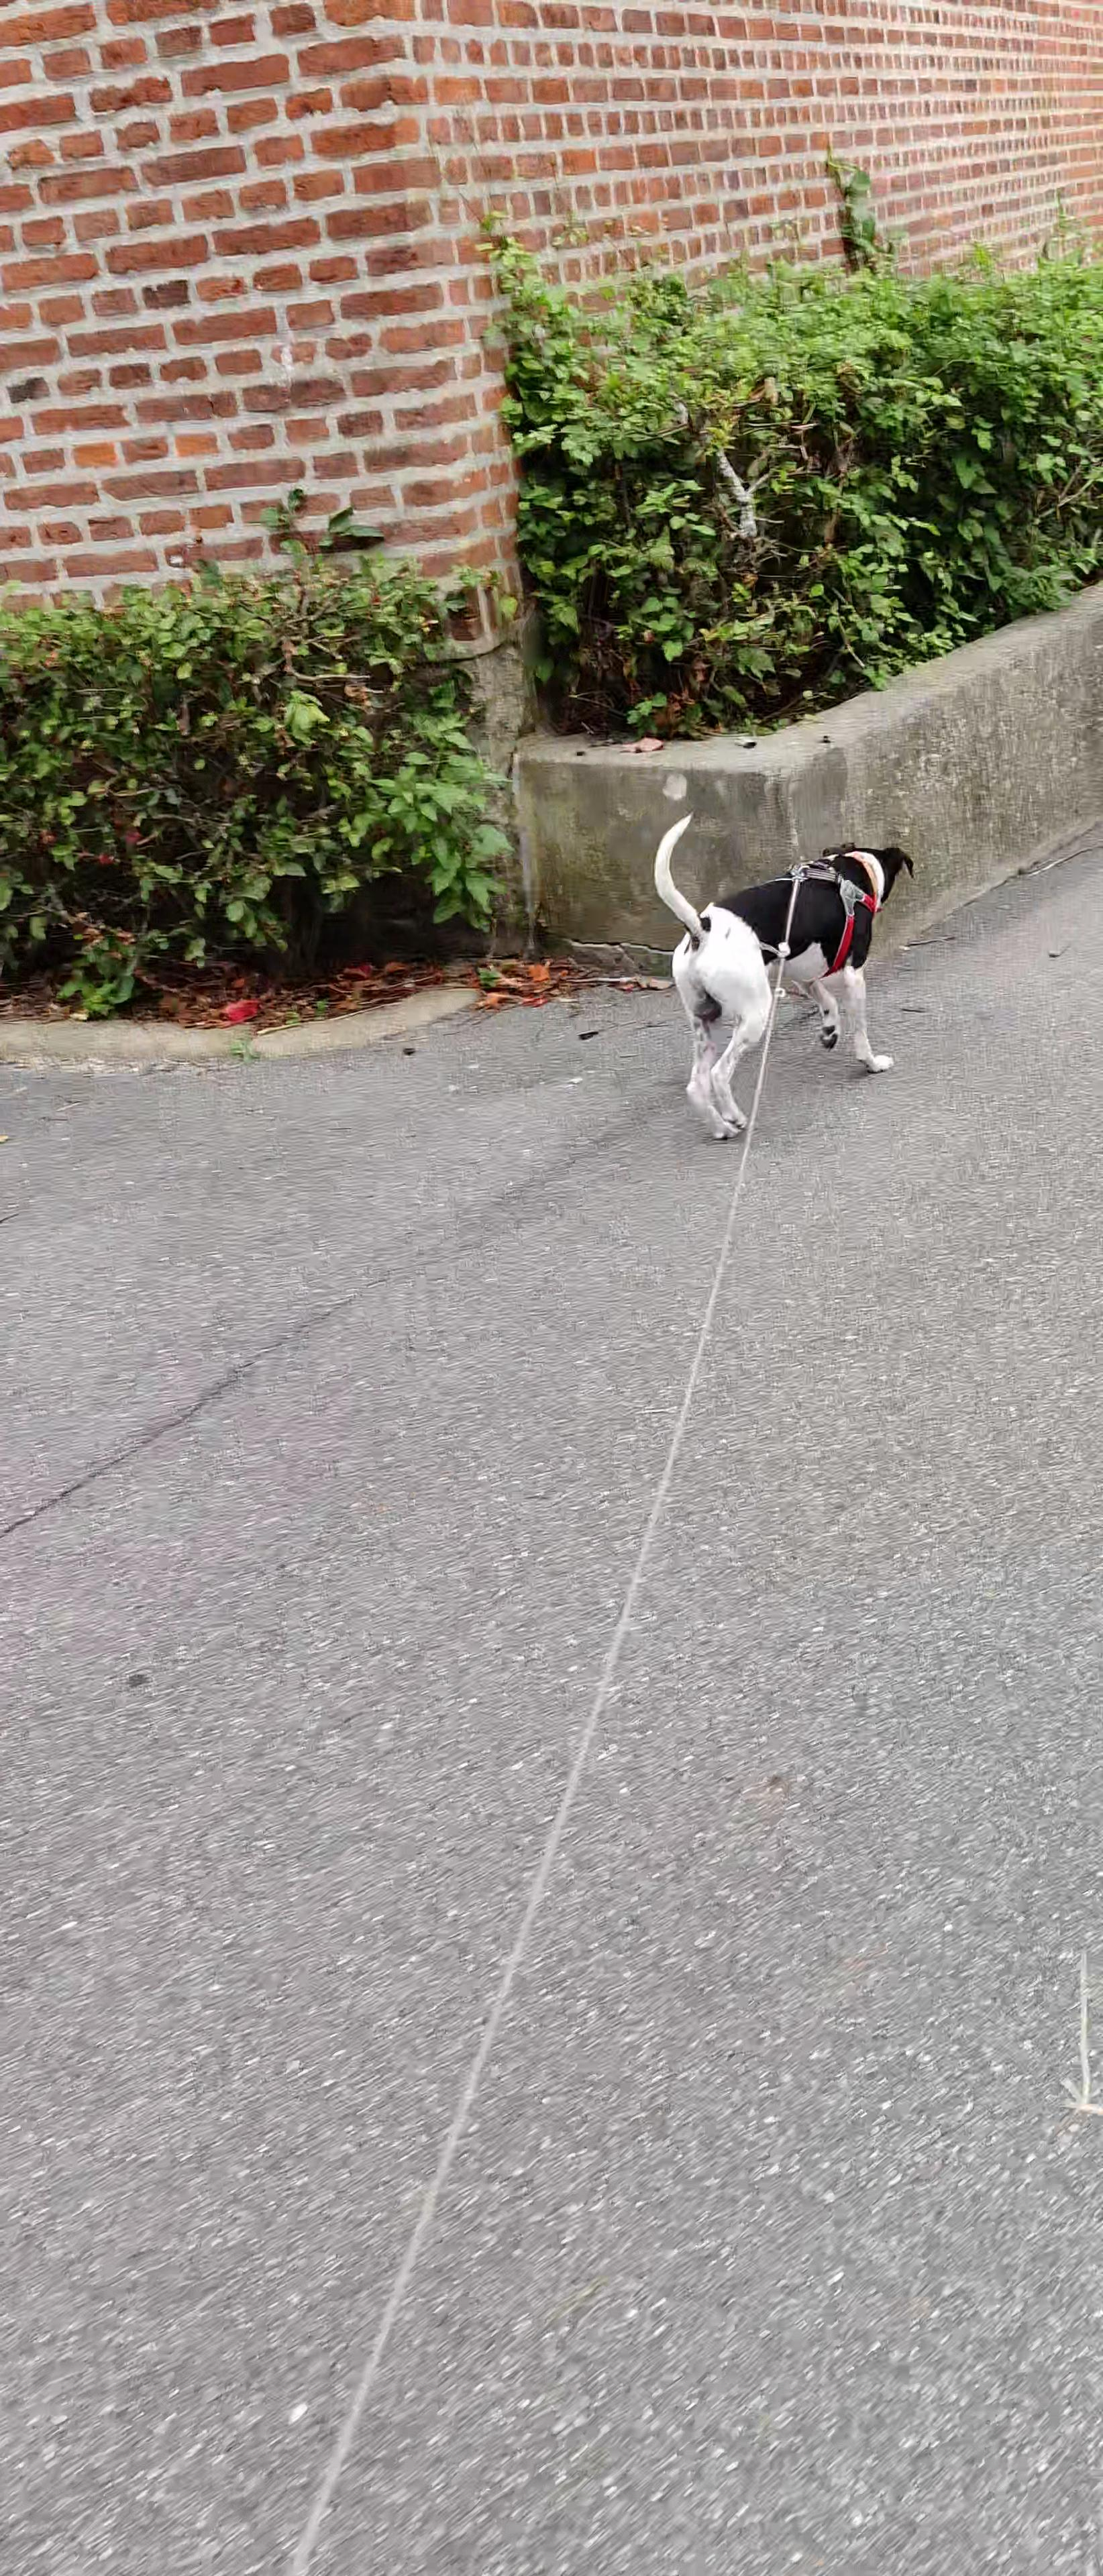Dog: (646, 810, 919, 1142)
